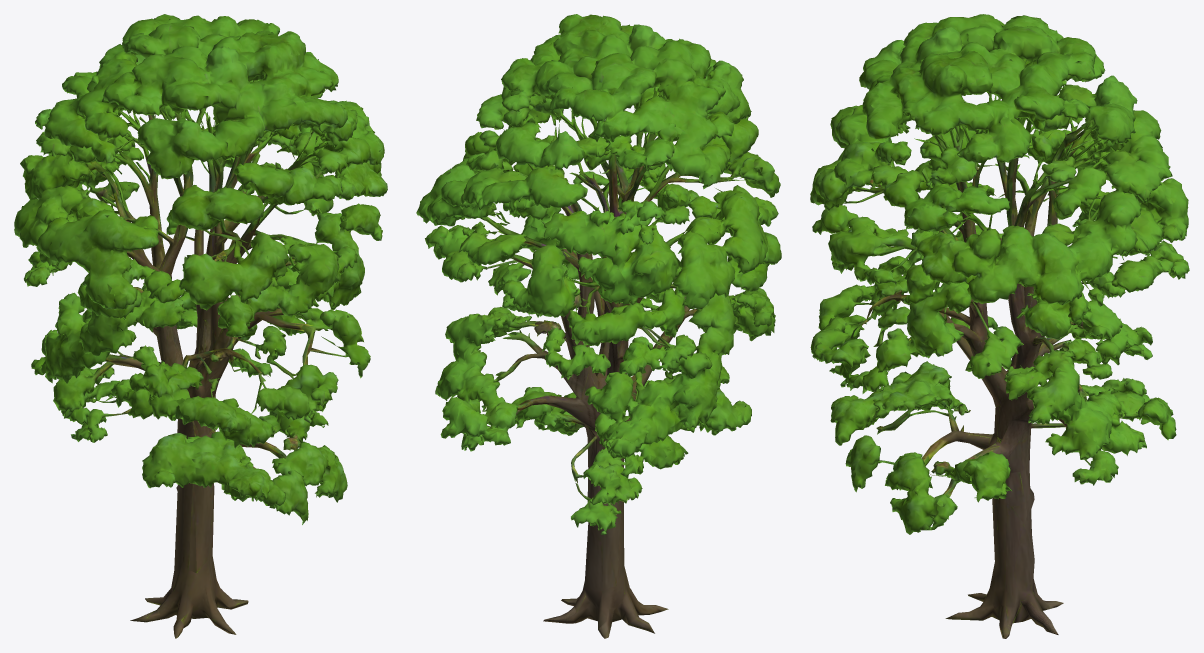
The model's file is shagbark-hickory-r1_semantic.glb.
3 renders of one model, left to right at view 1: azimuth 30°, elevation 25°; view 2: azimuth 150°, elevation 25°; view 3: azimuth 270°, elevation 25°, orthographic. The views are drawn at different scales.
Parts seen in each view (by area): view 1: Mesh_0; view 2: Mesh_0; view 3: Mesh_0.
Boxes of the visible parts, bbox=[...] form: Mesh_0: bbox=[14, 14, 387, 638]; Mesh_0: bbox=[416, 14, 781, 638]; Mesh_0: bbox=[810, 14, 1189, 638].
Size of the model in its own units: 11.62 by 20 by 11.75.
2 materials, 2 textured.
